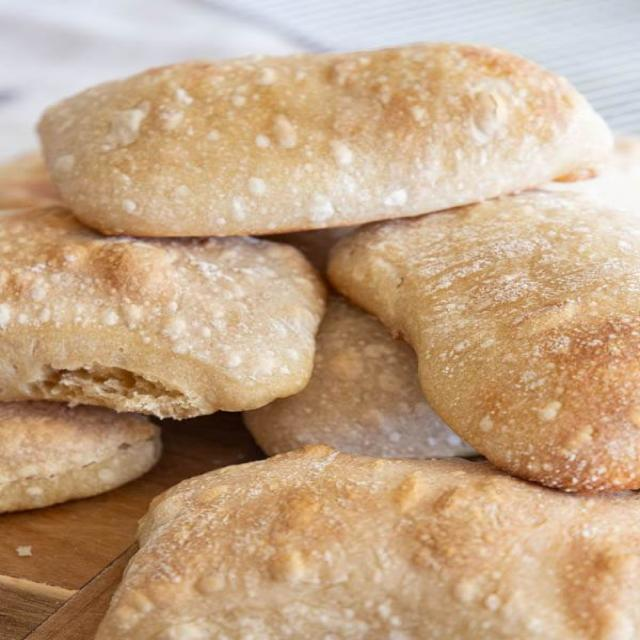Ciabatta: (38, 44, 612, 237), (327, 142, 639, 492), (95, 447, 639, 639), (0, 157, 325, 418)
